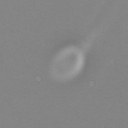normal: (78, 1, 115, 48)
